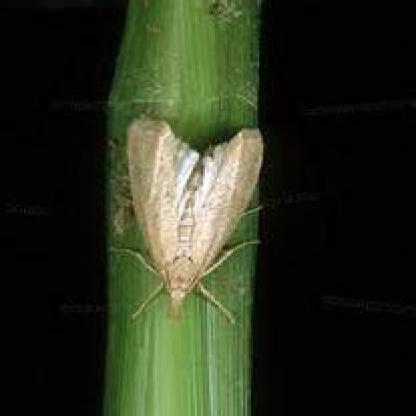stem-borer: (124, 115, 249, 324)
